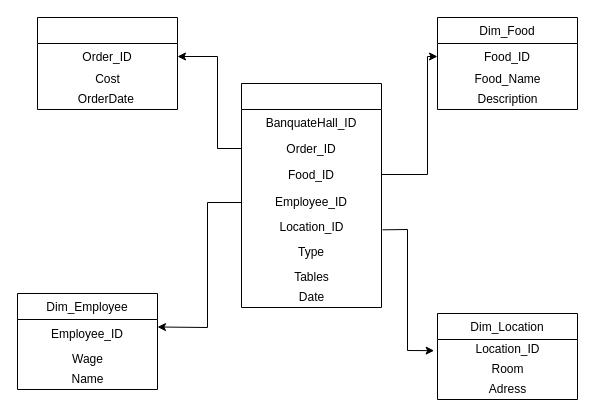
Image size: 595x417. Some labels were removed from this diagram. Here are the shapes that lost their labels. From the top down, the box of each, then its label:
(36, 16, 178, 110): Dim_Order
(240, 82, 382, 308): Fact_BanquetHall
